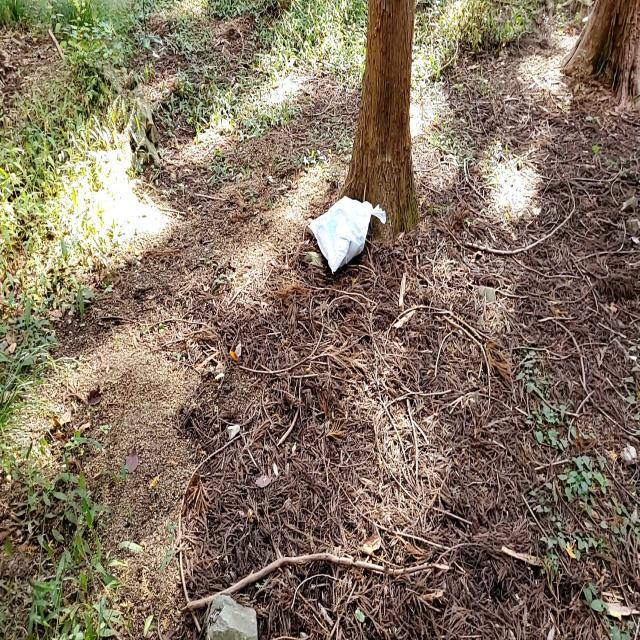garbage bag: (306, 193, 386, 276)
